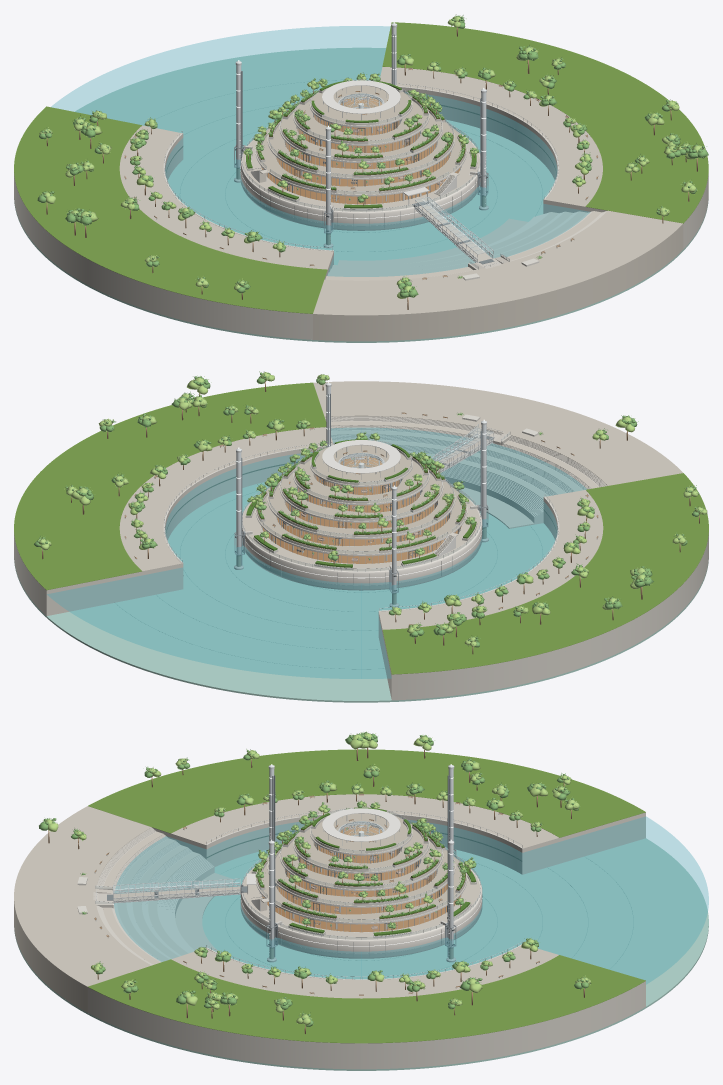
File: q11b-floating-civic.glb
3 renders of one model, top to bottom at view 1: azimuth 30°, elevation 25°; view 2: azimuth 150°, elevation 25°; view 3: azimuth 270°, elevation 25°, orthographic.
Parts seen in each view (by area): view 1: SITE_GROUND, WATER_SURFACE, FLOAT, SITE, FLOAT_HULL, FLOAT_ROOF, BRIDGE, PILLAR_SE, PILLAR_NW, PILLAR_SW; view 2: SITE_GROUND, WATER_SURFACE, FLOAT, SITE, FLOAT_HULL, FLOAT_ROOF, BRIDGE, PILLAR_NE, PILLAR_SW, PILLAR_NW; view 3: SITE_GROUND, WATER_SURFACE, FLOAT, SITE, FLOAT_HULL, FLOAT_ROOF, BRIDGE, PILLAR_NE, PILLAR_SE, PILLAR_NW.
Part boxes in pixels (bbox=[...]): SITE_GROUND: bbox=[14, 22, 708, 342]; WATER_SURFACE: bbox=[51, 26, 589, 276]; FLOAT: bbox=[243, 72, 479, 205]; SITE: bbox=[37, 14, 708, 309]; FLOAT_HULL: bbox=[240, 124, 480, 230]; FLOAT_ROOF: bbox=[309, 79, 412, 127]; BRIDGE: bbox=[414, 196, 493, 262]; PILLAR_SE: bbox=[479, 88, 488, 210]; PILLAR_NW: bbox=[234, 60, 242, 182]; PILLAR_SW: bbox=[323, 125, 333, 248]; SITE_GROUND: bbox=[14, 381, 708, 702]; WATER_SURFACE: bbox=[47, 428, 586, 678]; FLOAT: bbox=[247, 431, 475, 564]; SITE: bbox=[34, 371, 707, 654]; FLOAT_HULL: bbox=[242, 484, 482, 590]; FLOAT_ROOF: bbox=[310, 439, 412, 486]; BRIDGE: bbox=[430, 428, 493, 473]; PILLAR_NE: bbox=[234, 447, 243, 569]; PILLAR_SW: bbox=[480, 419, 488, 542]; PILLAR_NW: bbox=[389, 485, 399, 607]; SITE_GROUND: bbox=[14, 749, 708, 1070]; WATER_SURFACE: bbox=[114, 816, 708, 984]; FLOAT: bbox=[251, 800, 476, 932]; SITE: bbox=[39, 731, 591, 1033]; FLOAT_HULL: bbox=[240, 854, 482, 958]; FLOAT_ROOF: bbox=[310, 807, 412, 855]; BRIDGE: bbox=[113, 878, 240, 903]; PILLAR_NE: bbox=[446, 839, 455, 962]; PILLAR_SE: bbox=[267, 839, 276, 962]; PILLAR_NW: bbox=[447, 764, 454, 849].
Size of the model in its own units: 230 by 44.6 by 230.
